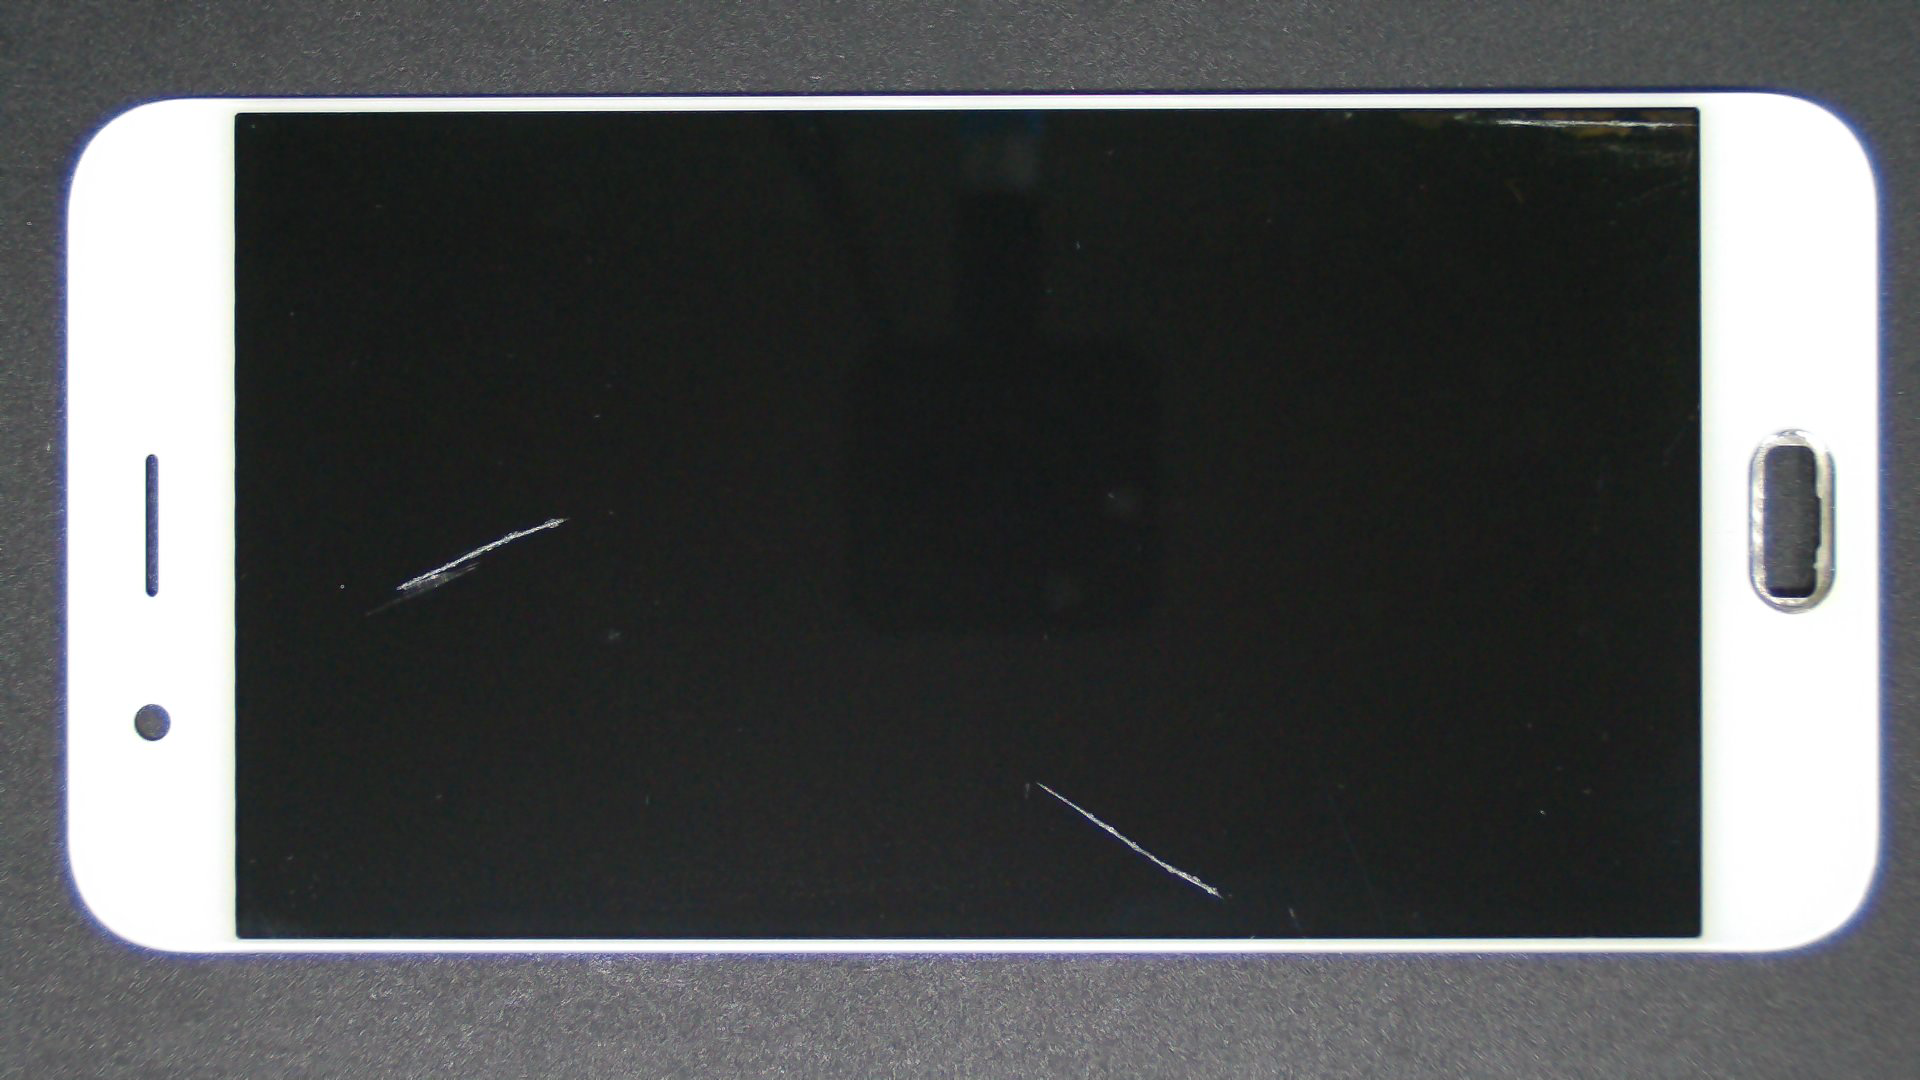defect: (1035, 782, 1224, 899), (394, 517, 568, 601), (1494, 117, 1698, 128)
